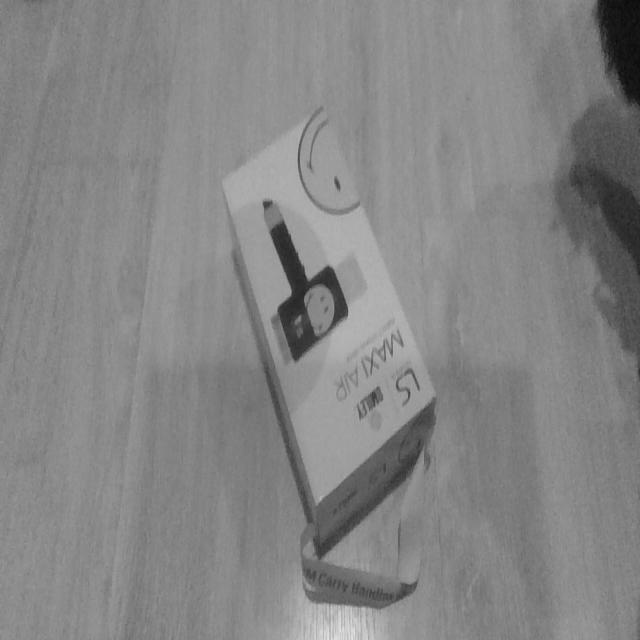Dryer: (220, 103, 439, 561)
